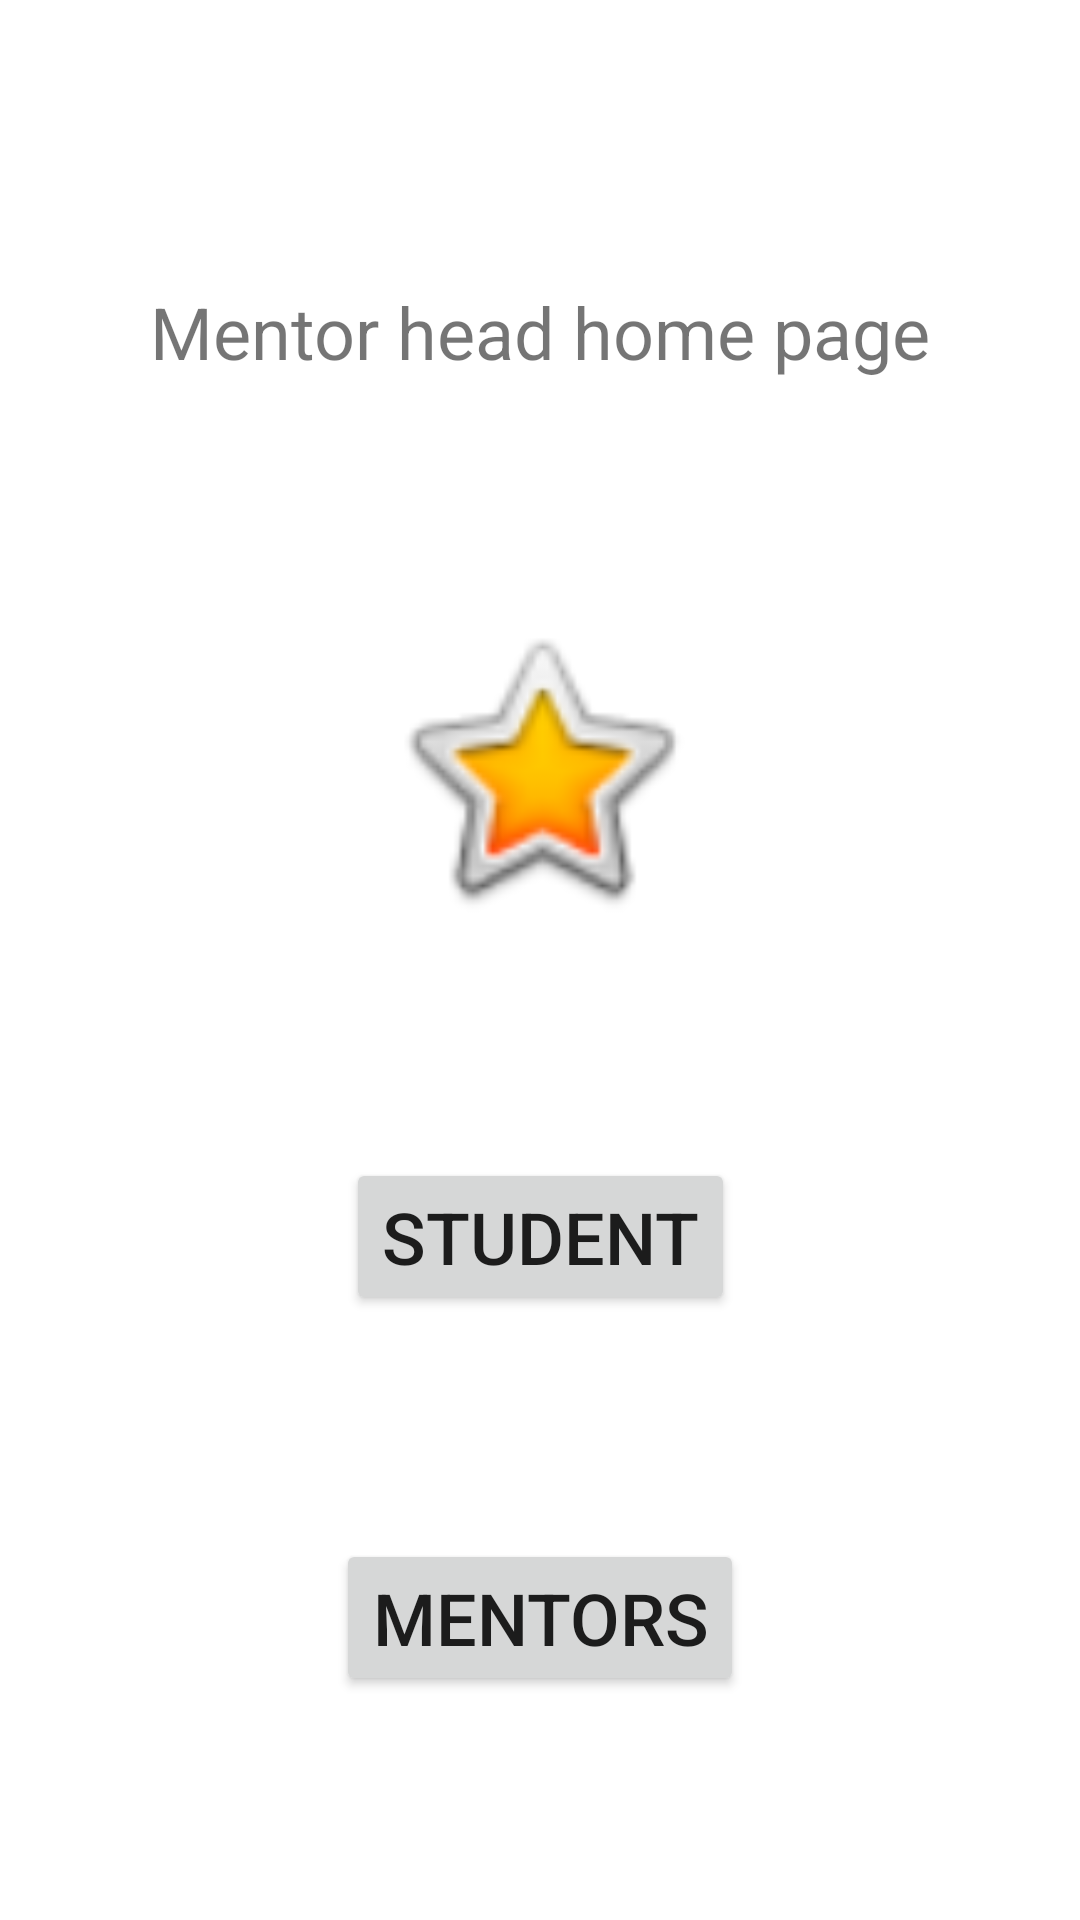

Screen size 1080 x 1920. Icon name, then its center in pixels as [x,y]:
star on: [543,771]
